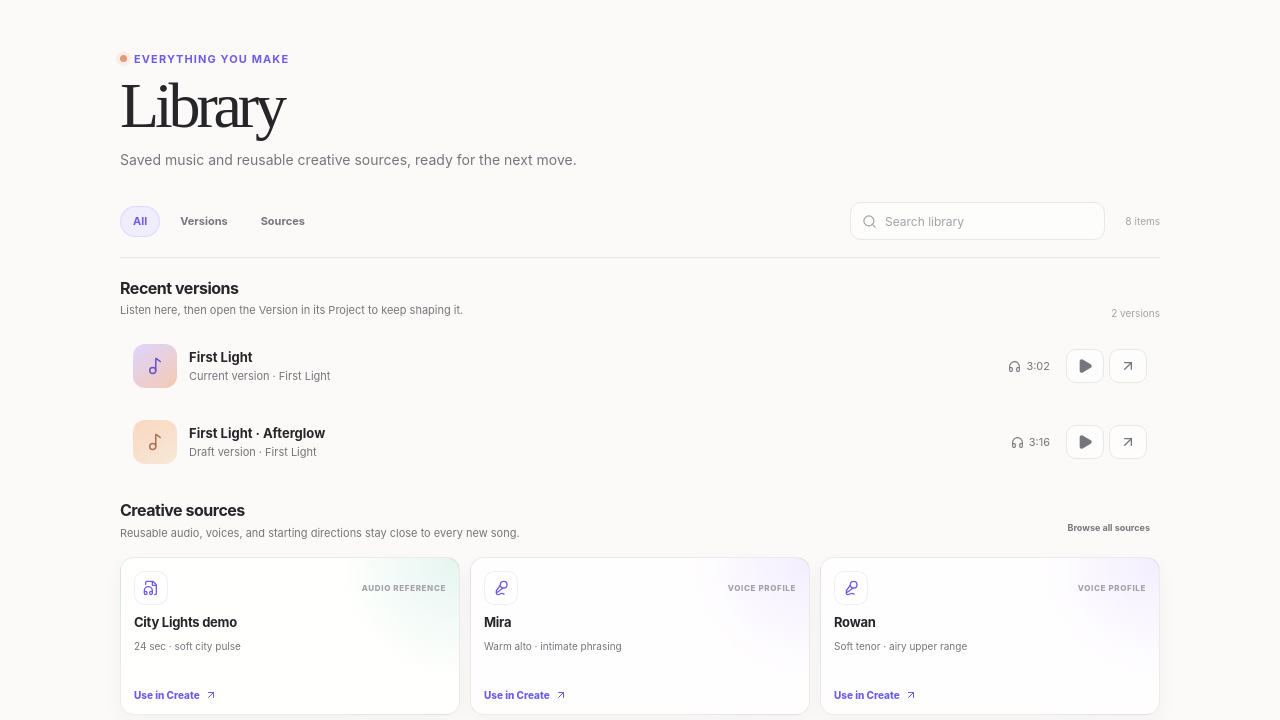
Test: Mori catalog surfaces › does not mix preview Sources into a live Version response when the Source projection fails
Click the button "Sources" at [283, 221], box x1=248 y1=206 x2=318 y2=237
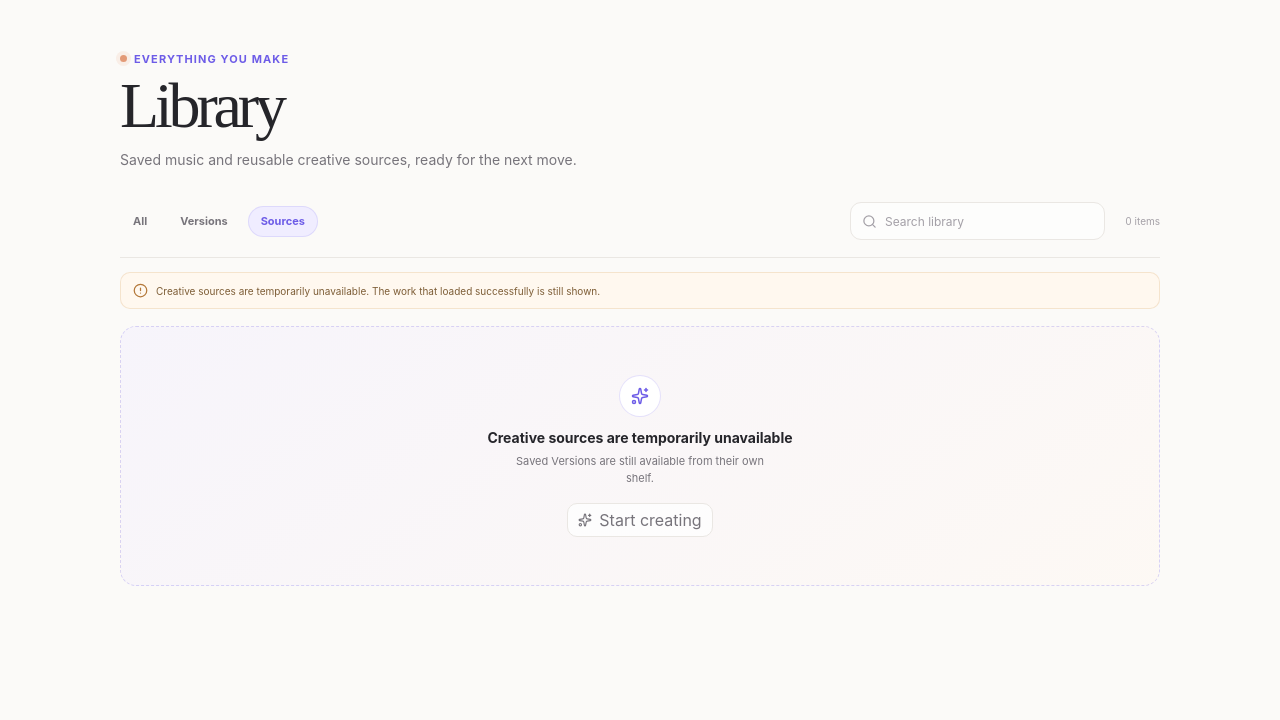
Now the message named "Library availability" shows "Creative sources are temporarily unavailable", box x1=156 y1=284 x2=600 y2=296
Now the heading "City Lights demo" is gone
Now the text "Creative sources are temporarily unavailable" is shown, box x1=487 y1=429 x2=793 y2=446
